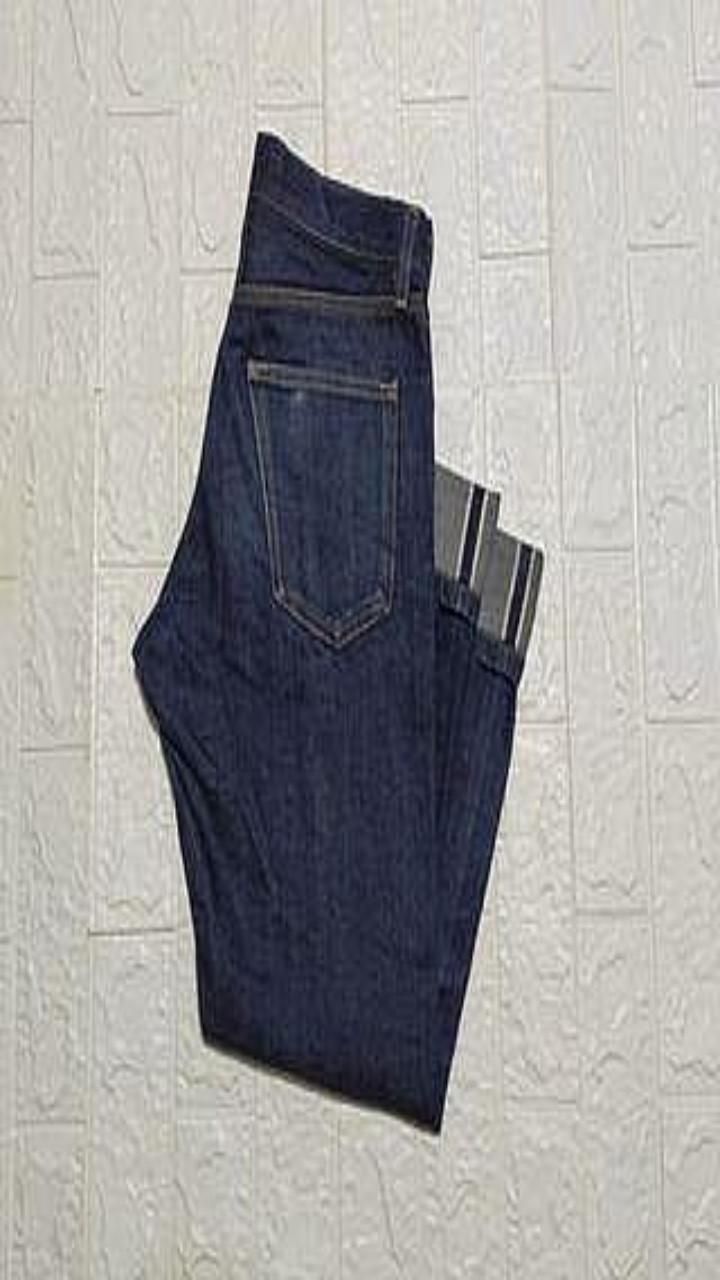Jeans: (132, 132, 542, 1131)
